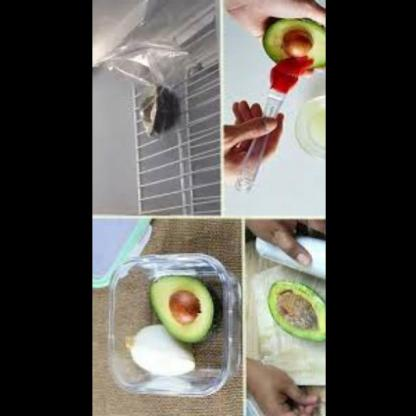avocado: (130, 273, 215, 344), (245, 275, 324, 349), (254, 2, 324, 81), (125, 78, 177, 140)
